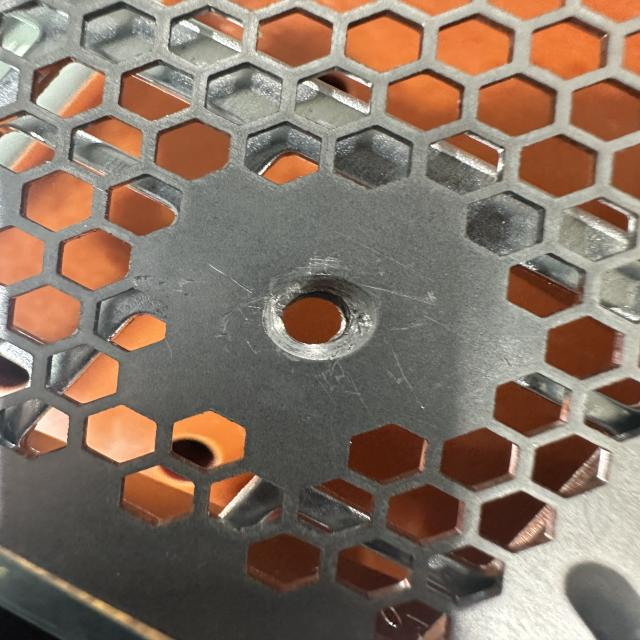Missing screw: (250, 264, 391, 374)
